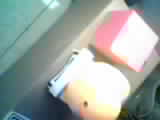duck: (68, 43, 133, 115)
